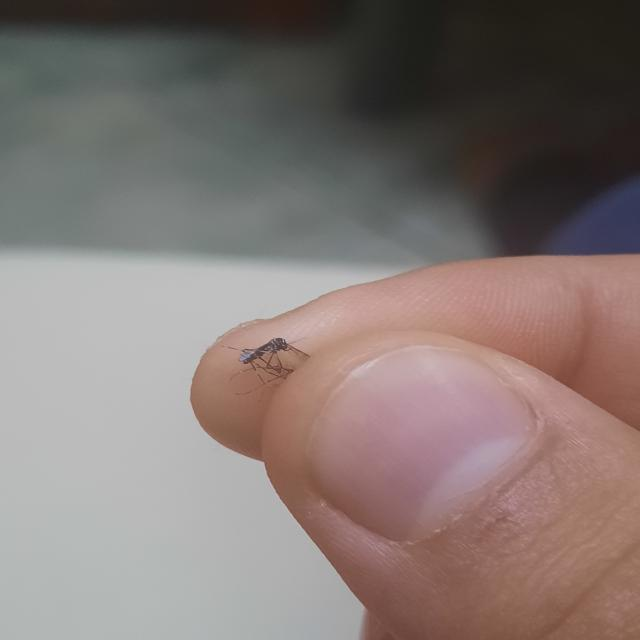albopictus: (218, 330, 311, 398)
